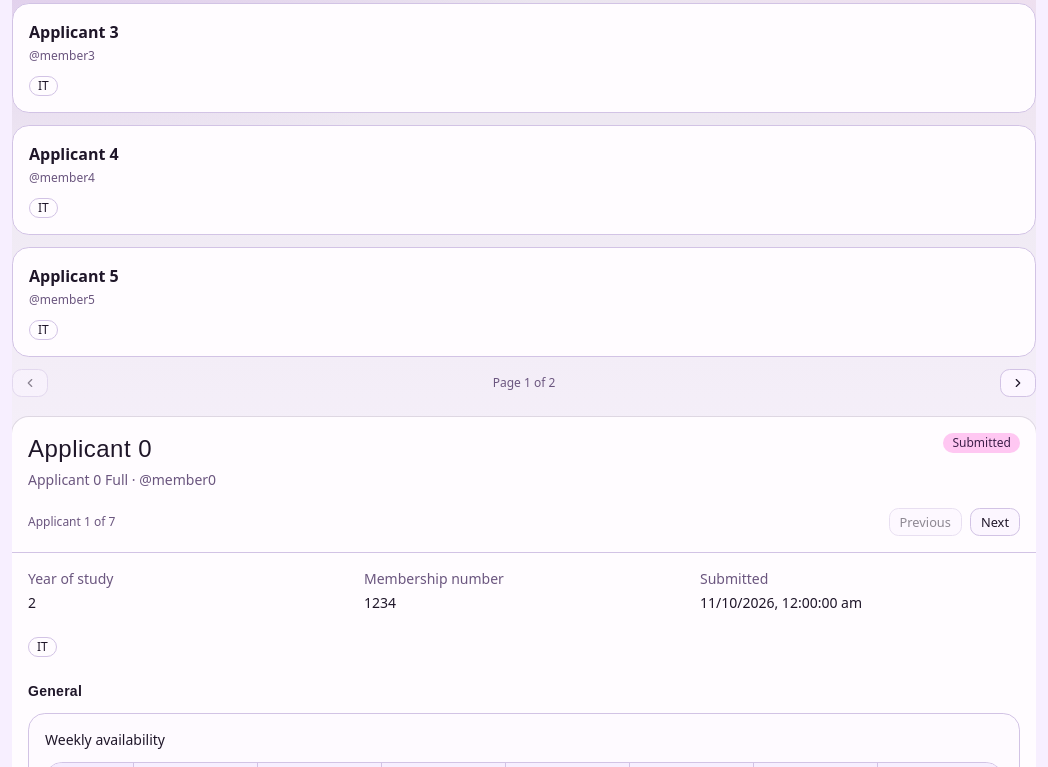
Scenario: application browser › paginates the compact list without rendering every response
The image size is (1048, 767).
(page scrolled)
Check: the text "Page 1 of 2" is shown, box x1=493 y1=375 x2=555 y2=391
Click the button named "Next applicant page" at (1018,383), box x1=1000 y1=369 x2=1036 y2=397
(page scrolled)
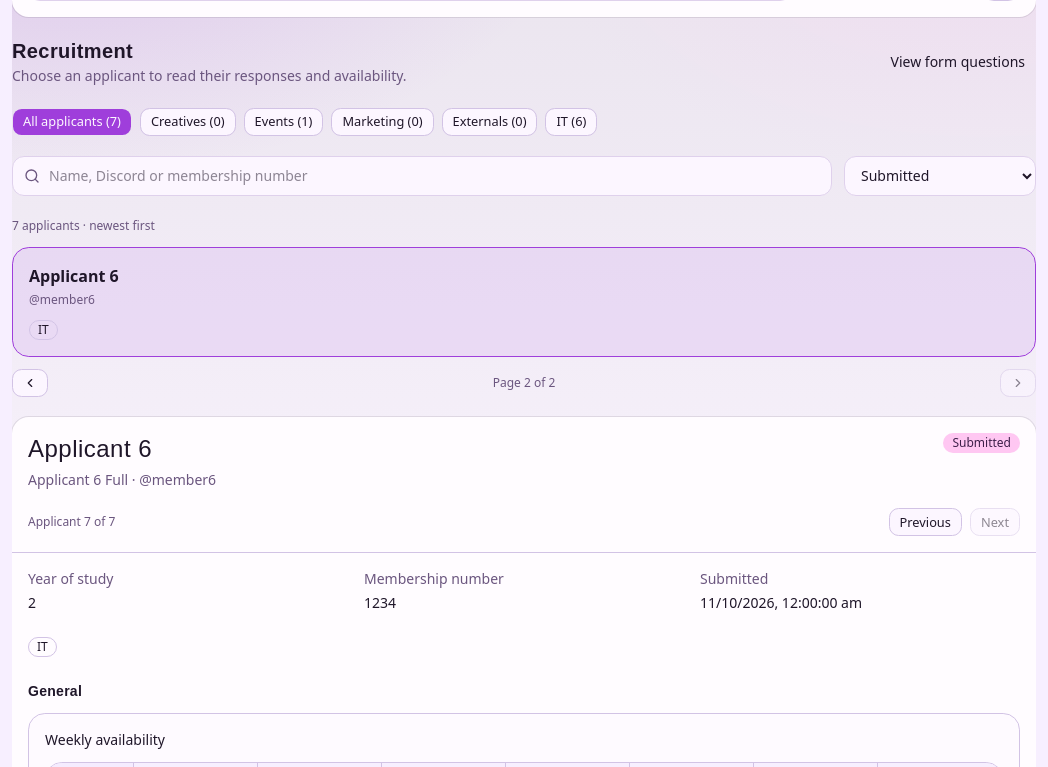
Check: the heading "Applicant 6" is shown, box x1=28 y1=435 x2=152 y2=462
Check: the text "Page 2 of 2" is shown, box x1=493 y1=375 x2=555 y2=391
